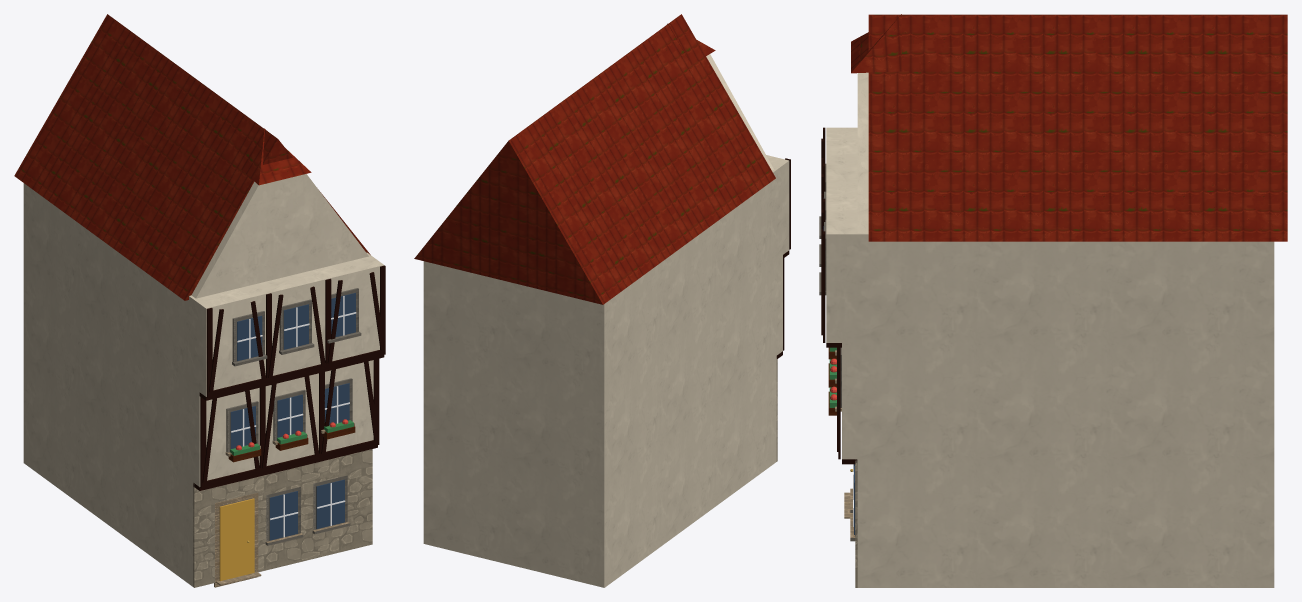
The model's file is fachwerk_w6_0.gltf.
3 renders of one model, left to right at view 1: azimuth 30°, elevation 25°; view 2: azimuth 150°, elevation 25°; view 3: azimuth 270°, elevation 25°, orthographic. The views are drawn at different scales.
Visible parts, largest first — view 1: fachwerk_w6_0; view 2: fachwerk_w6_0; view 3: fachwerk_w6_0.
Boxes of the visible parts, bbox=[...] form: fachwerk_w6_0: bbox=[14, 14, 385, 587]; fachwerk_w6_0: bbox=[414, 14, 790, 587]; fachwerk_w6_0: bbox=[819, 14, 1287, 587].
Size of what is drawn, in the model's own units: 5.96 by 13.1 by 10.56.
8 materials, 5 textured.
